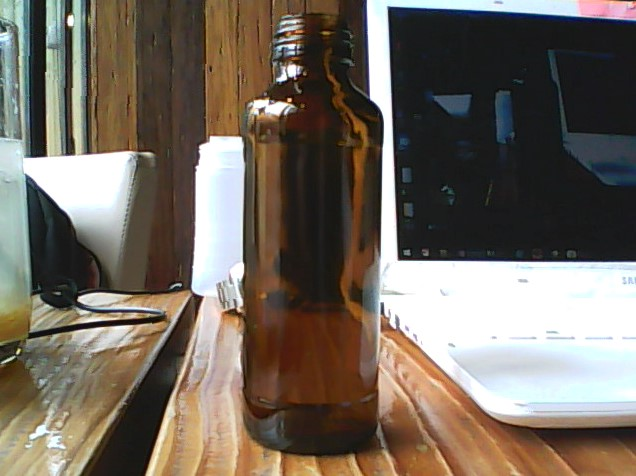Glass: (237, 9, 388, 453)
